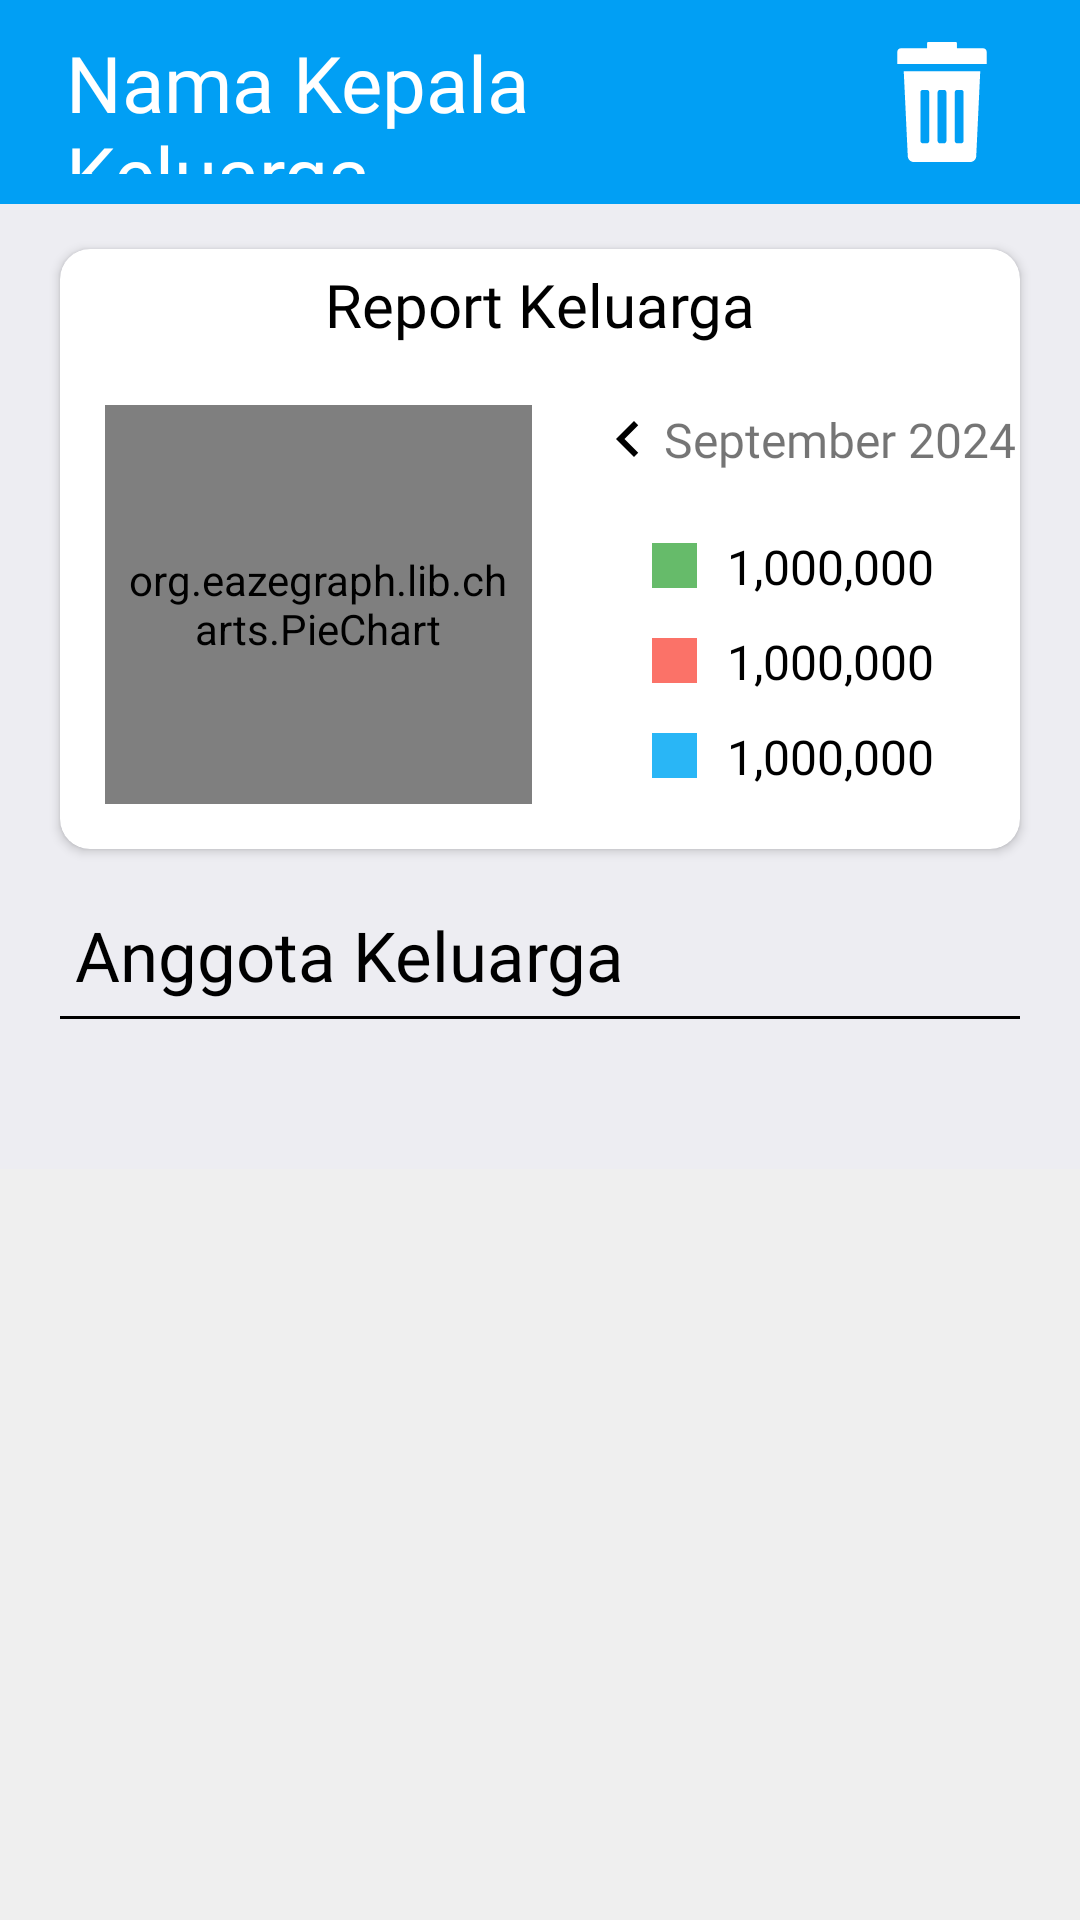

Locate icon controls on the screen. Image size 1080 x 1920, boxes as (x1, y1, x2, y2).
chevron left: (616, 421, 638, 457)
rubbish bin: (897, 42, 987, 162)
